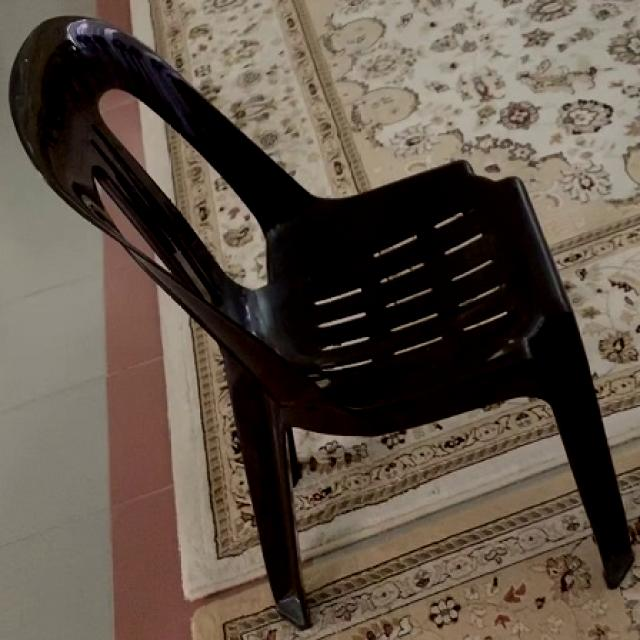Chair: (8, 12, 638, 637)
